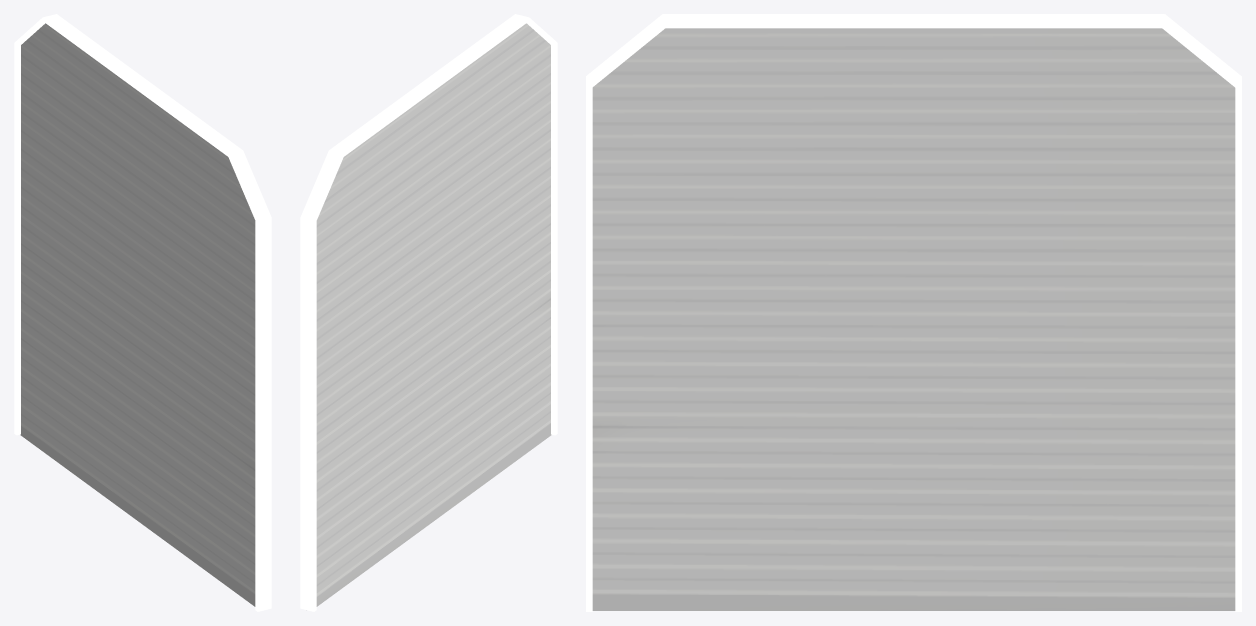
File: 1Trim-Roll-Up.a9a9e69b.gltf
The picture shows the model from 3 angles, left to right: view 1: azimuth 30°, elevation 25°; view 2: azimuth 150°, elevation 25°; view 3: azimuth 270°, elevation 25°; orthographic projection. The views are drawn at different scales.
Parts seen in each view (by area): view 1: Plane, Cube.004; view 2: Plane, Cube.004; view 3: Plane, Cube.004.
Boxes of the visible parts, <box> form: Plane: <box>20,23,255,606</box>; Cube.004: <box>14,14,271,611</box>; Plane: <box>316,23,551,606</box>; Cube.004: <box>300,14,557,611</box>; Plane: <box>592,28,1235,610</box>; Cube.004: <box>586,14,1241,611</box>.
Bounding box in the file's own units: 0.2 × 6.03 × 6.07.
6 materials, 1 textured.
